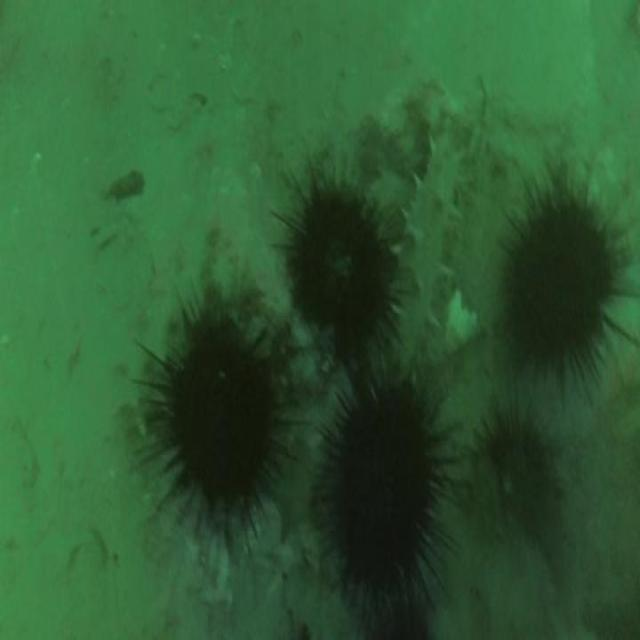echinus: (327, 384, 439, 594), (164, 314, 280, 509), (505, 198, 613, 370), (290, 191, 393, 357), (477, 420, 548, 536)
holothurian: (394, 132, 468, 378)
